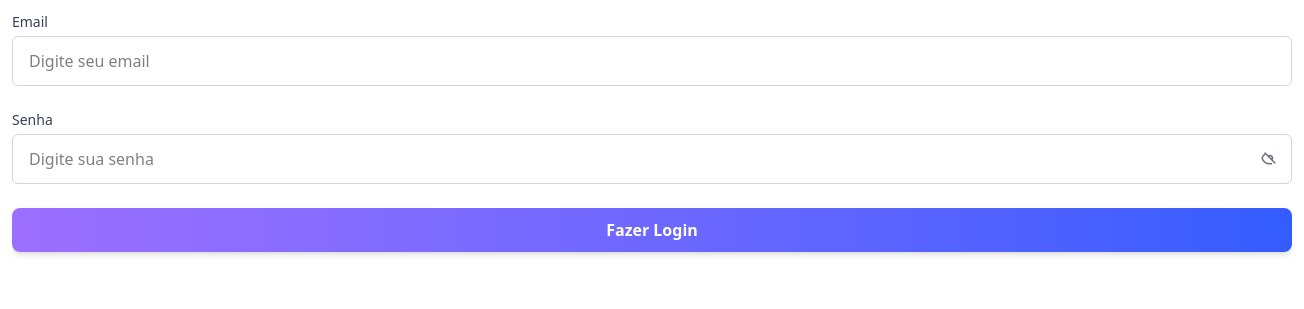
Test: LoginForm › exibe alerta quando o login falha
Type "user@example.com" into the field labelled "Email" at (652, 61), box [12, 36, 1292, 86]
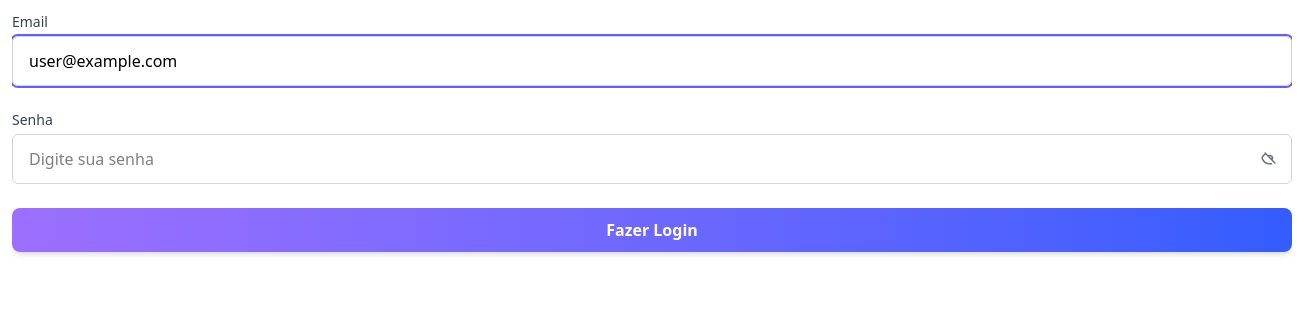
Type "senha" into the password field labelled "Senha" at (652, 159), box [12, 134, 1292, 184]
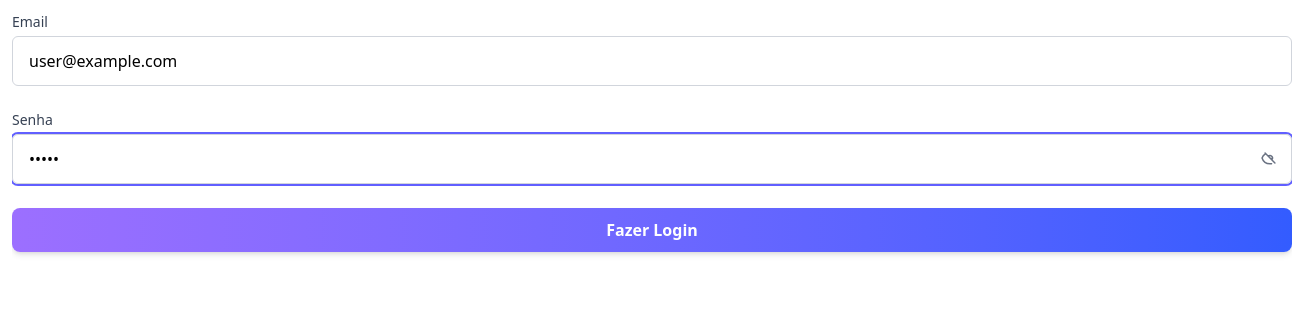
Click the button "Fazer Login" at (652, 230), box [12, 208, 1292, 252]
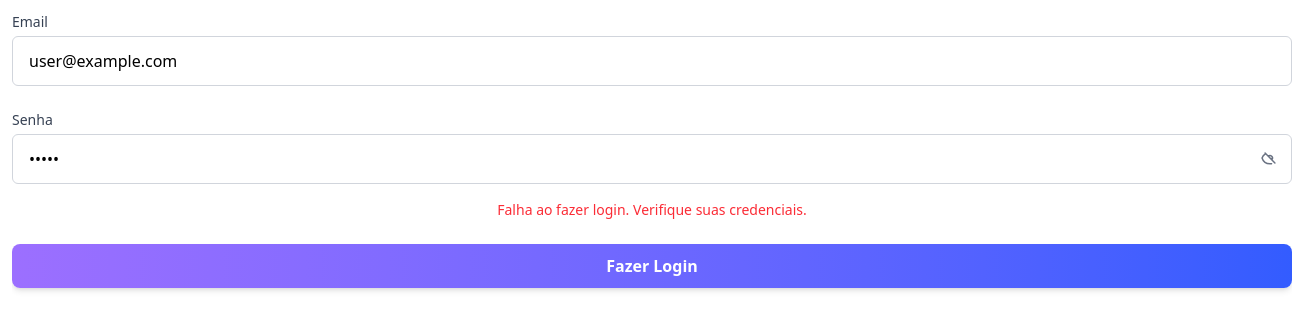
Expected: the text "Falha ao fazer login. Verifique suas credenciais." is shown, [497, 200, 807, 219]
